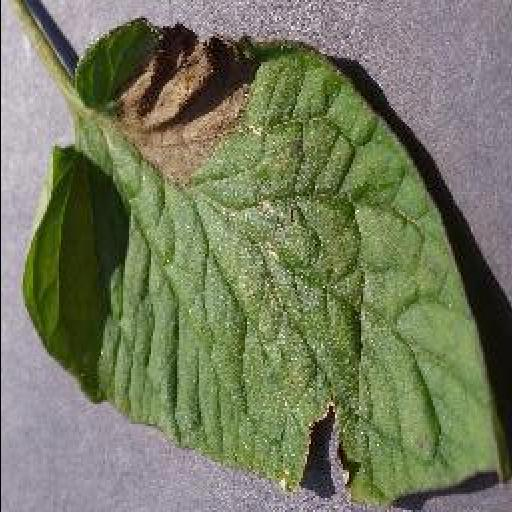disease_tomato: (24, 18, 510, 504)
